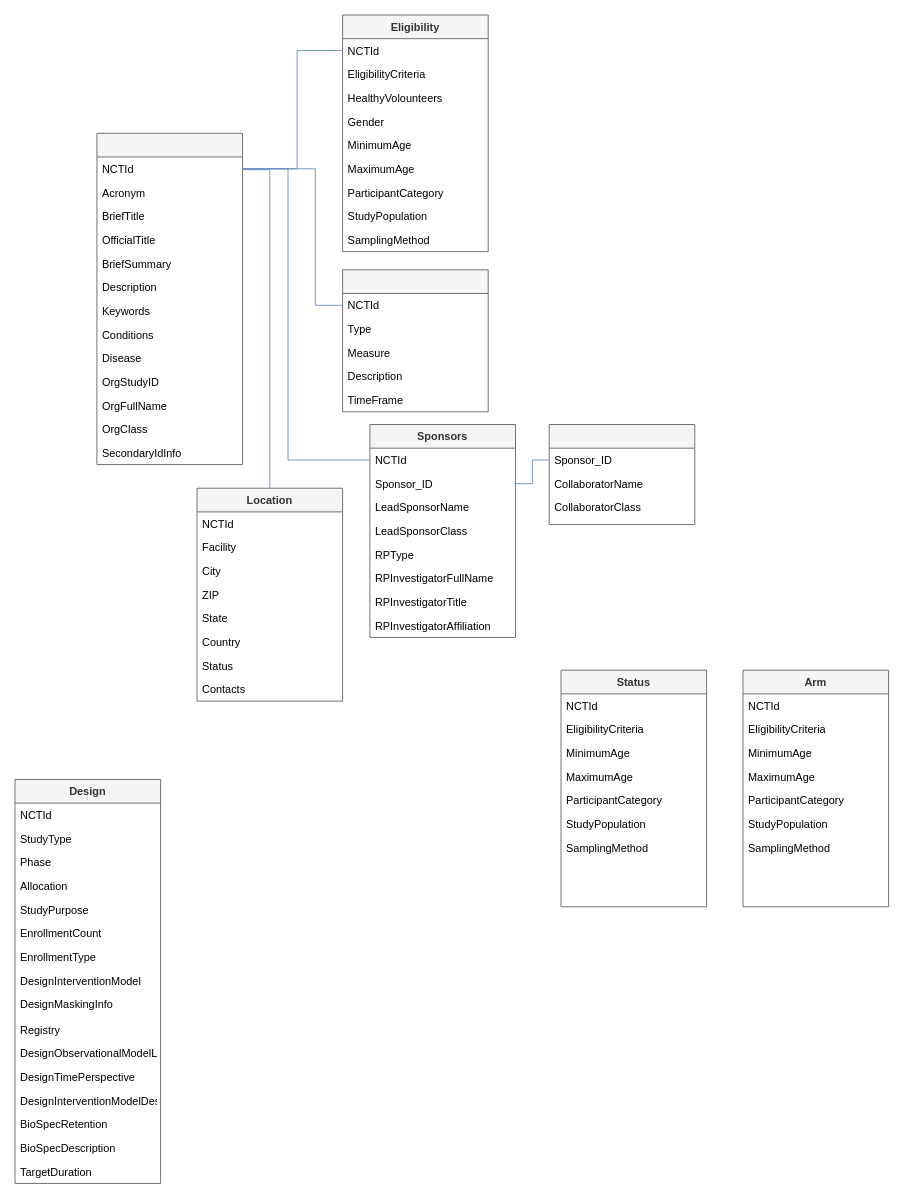
The diagram is 904 pixels wide and 1198 high, and some of its shapes have lost their labels. The box of each missing label's shape, as (x1, y1, x2, y2) in pixels:
Collaborators: (548, 424, 695, 525)
Master Data: (96, 132, 243, 465)
Outcome: (342, 269, 488, 412)
